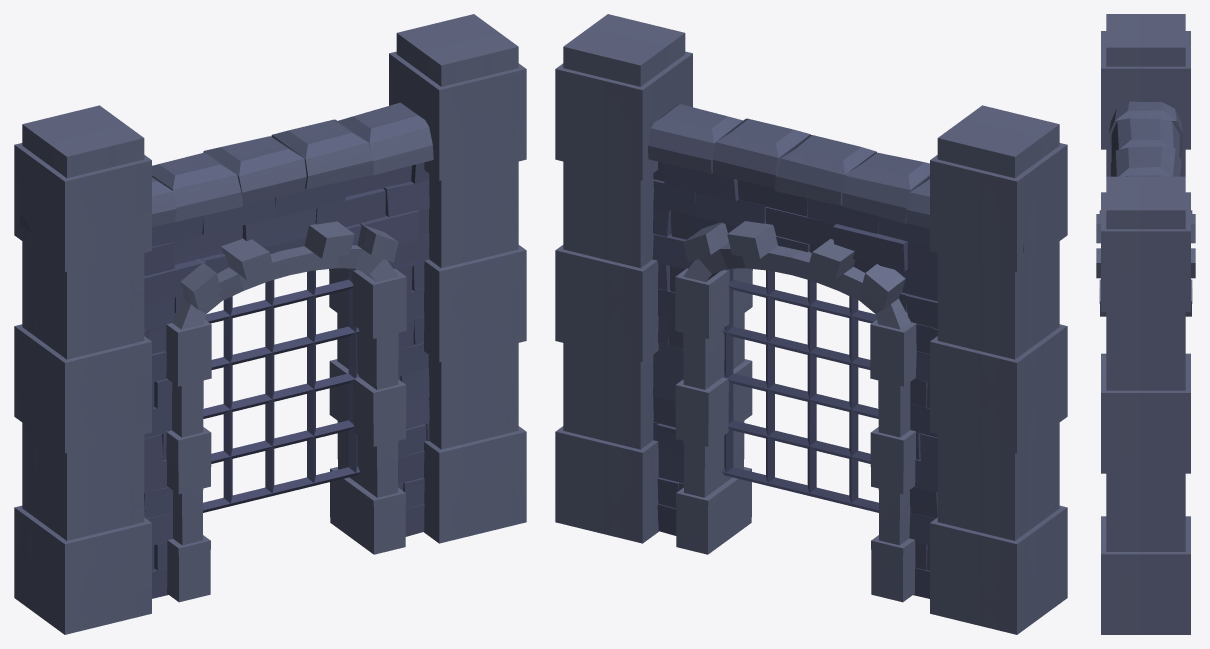
The model's file is Stone_Gate.fbx.
3 views of the same model, side by side, from view 1: azimuth 30°, elevation 25°; view 2: azimuth 150°, elevation 25°; view 3: azimuth 270°, elevation 25° (orthographic). The views are drawn at different scales.
Parts seen in each view (by area): view 1: Stone_Doorway, Stone_Gate_Pillar_Right, Stone_Gate_Pillar_Left, Gate; view 2: Stone_Doorway, Stone_Gate_Pillar_Right, Stone_Gate_Pillar_Left, Gate; view 3: Stone_Gate_Pillar_Left, Stone_Gate_Pillar_Right, Stone_Doorway.
Part boxes in pixels (x1,y1,x2,y2): Stone_Doorway: (19, 102, 433, 602); Stone_Gate_Pillar_Right: (14, 105, 151, 634); Stone_Gate_Pillar_Left: (389, 14, 526, 543); Gate: (203, 268, 359, 512); Stone_Doorway: (648, 104, 1035, 602); Stone_Gate_Pillar_Right: (930, 105, 1067, 634); Stone_Gate_Pillar_Left: (555, 14, 692, 543); Gate: (722, 268, 878, 512); Stone_Gate_Pillar_Left: (1101, 176, 1190, 634); Stone_Gate_Pillar_Right: (1101, 14, 1190, 354); Stone_Doorway: (1096, 101, 1195, 316).
Size of the model in its own units: 556 by 549 by 116.
